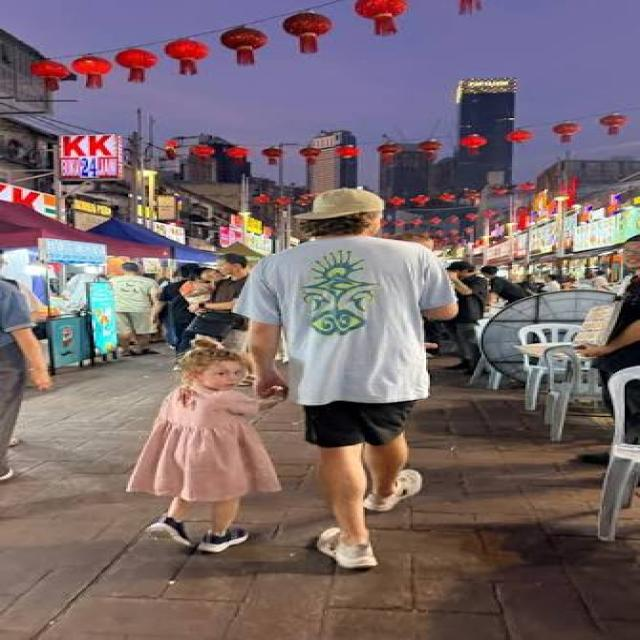Person: (244, 171, 463, 578), (142, 332, 294, 562)
